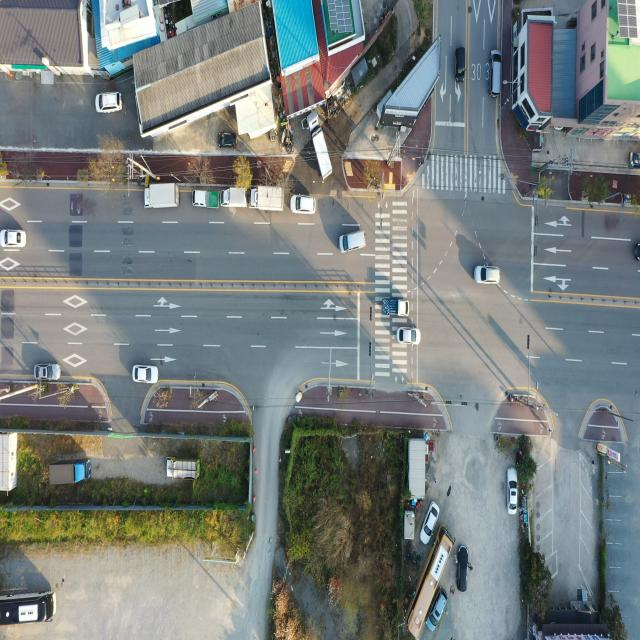car: (419, 499, 439, 548), (426, 589, 448, 632), (456, 543, 469, 593), (95, 92, 122, 114), (339, 229, 366, 251), (489, 49, 502, 94), (0, 230, 25, 250), (292, 195, 317, 215), (133, 364, 159, 383), (476, 266, 500, 286), (35, 362, 61, 380), (217, 127, 238, 149), (509, 470, 519, 513), (398, 326, 421, 344), (455, 44, 465, 83), (634, 241, 640, 262)
large_bus: (408, 523, 456, 638), (0, 592, 55, 627)
medium_truck: (308, 110, 332, 181), (48, 457, 92, 489), (144, 182, 182, 211), (250, 183, 286, 212)
small_truck: (162, 458, 202, 482), (192, 186, 221, 210), (221, 188, 248, 210), (384, 300, 409, 318)
